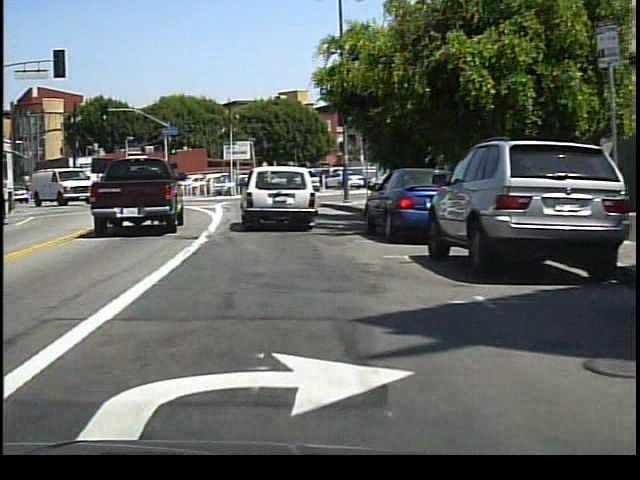person: (338, 169, 353, 199)
